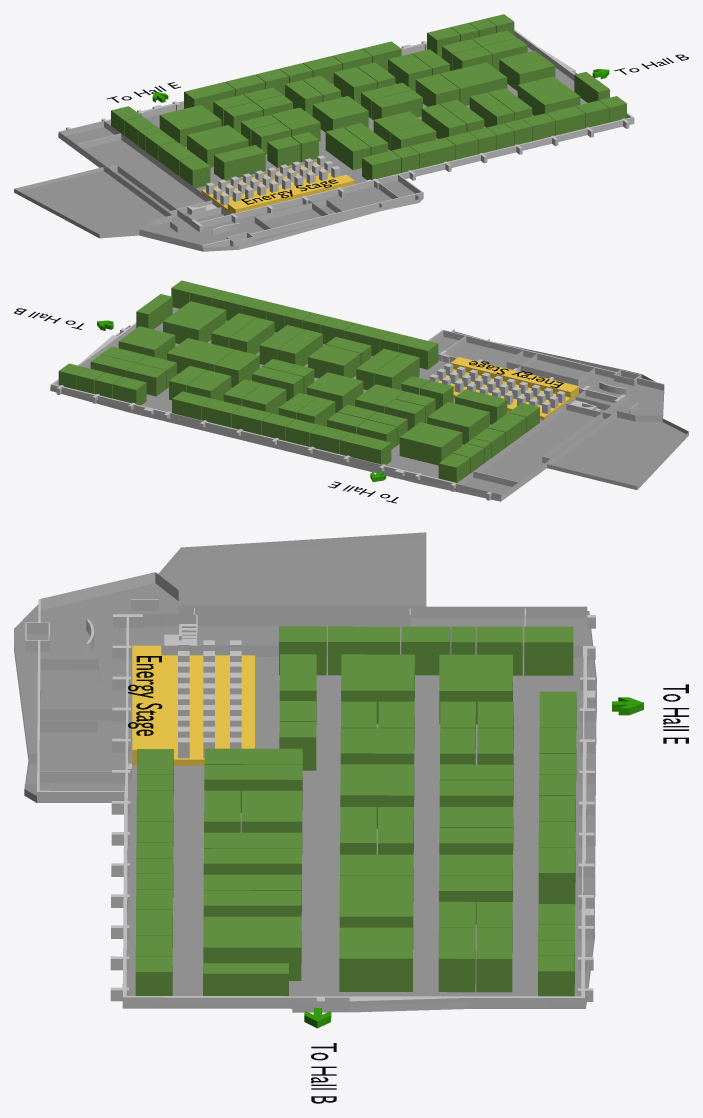
File: Hall_C.glb
The picture shows the model from 3 angles, top to bottom: view 1: azimuth 30°, elevation 25°; view 2: azimuth 150°, elevation 25°; view 3: azimuth 270°, elevation 25°; orthographic projection. The views are drawn at different scales.
Parts seen in each view (by area): view 1: Plane, Building_curve_, Cube.002, Background, Energy_Stage.001, BOOTHLAYER_curve_.C-3430, BOOTHLAYER_curve_.C-3250, BOOTHLAYER_curve_.C-3100, BOOTHLAYER_curve_.C-3210, BOOTHLAYER_curve_.C-3230, BOOTHLAYER_curve_.C-3260, BOOTHLAYER_curve_.C-3300 (+54 smaller); view 2: Plane, Building_curve_, Background, Cube.002, Energy_Stage.001, BOOTHLAYER_curve_.C-3100, BOOTHLAYER_curve_.C-3430, BOOTHLAYER_curve_.C-3210, BOOTHLAYER_curve_.C-3250, BOOTHLAYER_curve_.C-3230, BOOTHLAYER_curve_.C-3370, BOOTHLAYER_curve_.C-3260 (+57 smaller); view 3: Plane, Building_curve_, Energy_Stage.001, Background, BOOTHLAYER_curve_.C-3430, BOOTHLAYER_curve_.C-3260, Cube.002, BOOTHLAYER_curve_.C-3250, BOOTHLAYER_curve_.C-3100, BOOTHLAYER_curve_.C-3210, BOOTHLAYER_curve_.C-3230, BOOTHLAYER_curve_.C-3440 (+46 smaller).
Boxes of the visible parts, x1,y1,x2,y2 form: Plane: (19,47,587,246); Building_curve_: (58,29,634,251); Cube.002: (206,155,340,205); Background: (14,43,634,251); Energy_Stage.001: (201,162,354,213); BOOTHLAYER_curve_.C-3430: (517,76,580,115); BOOTHLAYER_curve_.C-3250: (440,62,507,105); BOOTHLAYER_curve_.C-3100: (159,105,221,147); BOOTHLAYER_curve_.C-3210: (187,125,248,167); BOOTHLAYER_curve_.C-3230: (312,96,368,132); BOOTHLAYER_curve_.C-3260: (499,50,555,90); BOOTHLAYER_curve_.C-3300: (214,145,265,180); Plane: (85,307,686,494); Building_curve_: (50,322,664,500); Background: (50,325,688,501); Cube.002: (429,363,565,413); Energy_Stage.001: (438,357,578,419); BOOTHLAYER_curve_.C-3100: (399,422,462,465); BOOTHLAYER_curve_.C-3430: (163,301,226,343); BOOTHLAYER_curve_.C-3210: (427,402,489,444); BOOTHLAYER_curve_.C-3250: (167,338,234,374); BOOTHLAYER_curve_.C-3230: (306,372,363,413); BOOTHLAYER_curve_.C-3370: (308,344,360,378); BOOTHLAYER_curve_.C-3260: (118,326,175,359); Plane: (14,539,596,1002); Building_curve_: (24,572,595,1008); Energy_Stage.001: (132,645,254,765); Background: (14,532,596,1012); BOOTHLAYER_curve_.C-3430: (203,916,301,980); BOOTHLAYER_curve_.C-3260: (339,927,412,991); Cube.002: (178,640,241,758); BOOTHLAYER_curve_.C-3250: (339,875,413,949); BOOTHLAYER_curve_.C-3100: (439,654,512,724); BOOTHLAYER_curve_.C-3210: (341,654,414,723); BOOTHLAYER_curve_.C-3230: (340,764,414,828); BOOTHLAYER_curve_.C-3440: (203,963,288,995).
Bounding box in the file's own units: 50.28 × 1.39 × 25.41.
